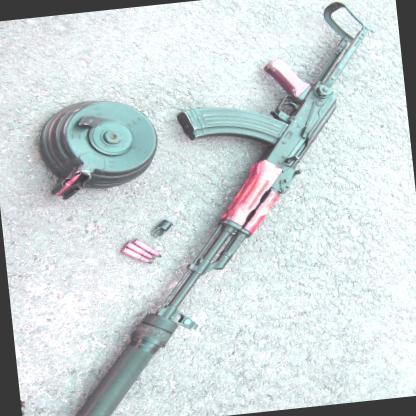rifle: (24, 1, 416, 416)
